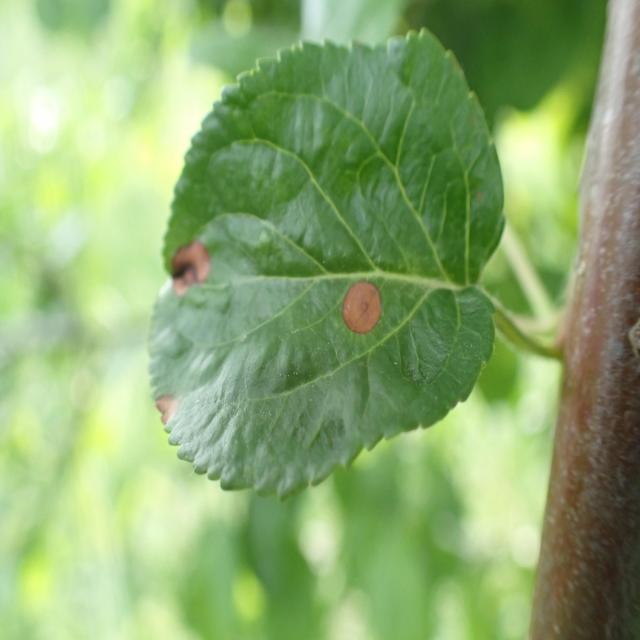frog-eye-leaf-spot: (145, 28, 505, 504)
